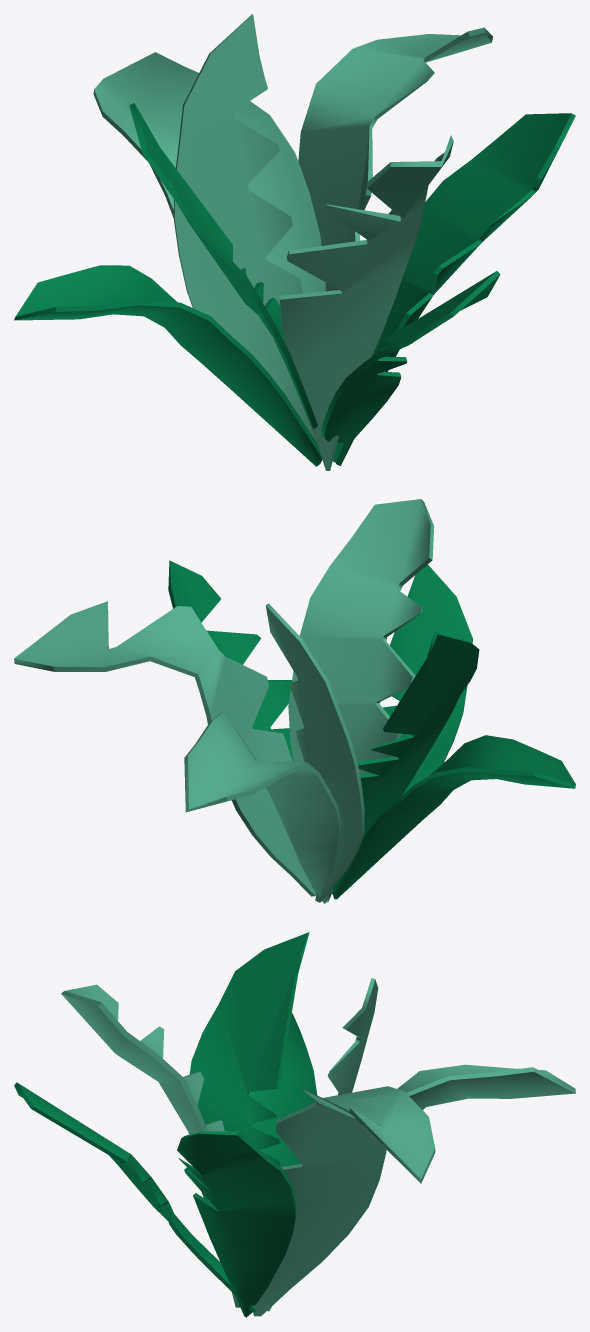
Rendered from gras2.fbx.
The picture shows the model from 3 angles, top to bottom: view 1: azimuth 30°, elevation 25°; view 2: azimuth 150°, elevation 25°; view 3: azimuth 270°, elevation 25°; orthographic projection. The views are drawn at different scales.
Parts seen in each view (by area): view 1: _1_strangebush:pCube12; view 2: _1_strangebush:pCube12; view 3: _1_strangebush:pCube12.
Part boxes in pixels (<box>): _1_strangebush:pCube12: <box>14,14,575,470</box>; _1_strangebush:pCube12: <box>14,499,575,903</box>; _1_strangebush:pCube12: <box>14,932,575,1317</box>.
Bounding box in the file's own units: 140 × 93.81 × 143.
